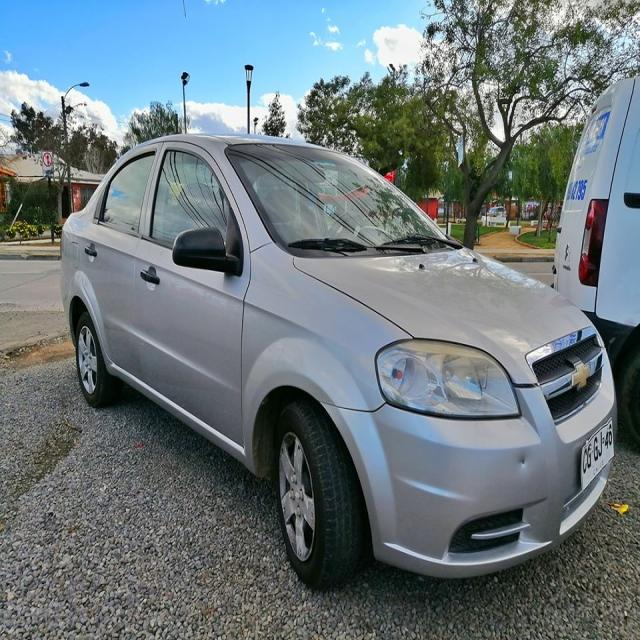patente: (578, 417, 614, 491)
